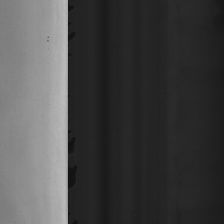inclusion: (45, 33, 51, 51)
